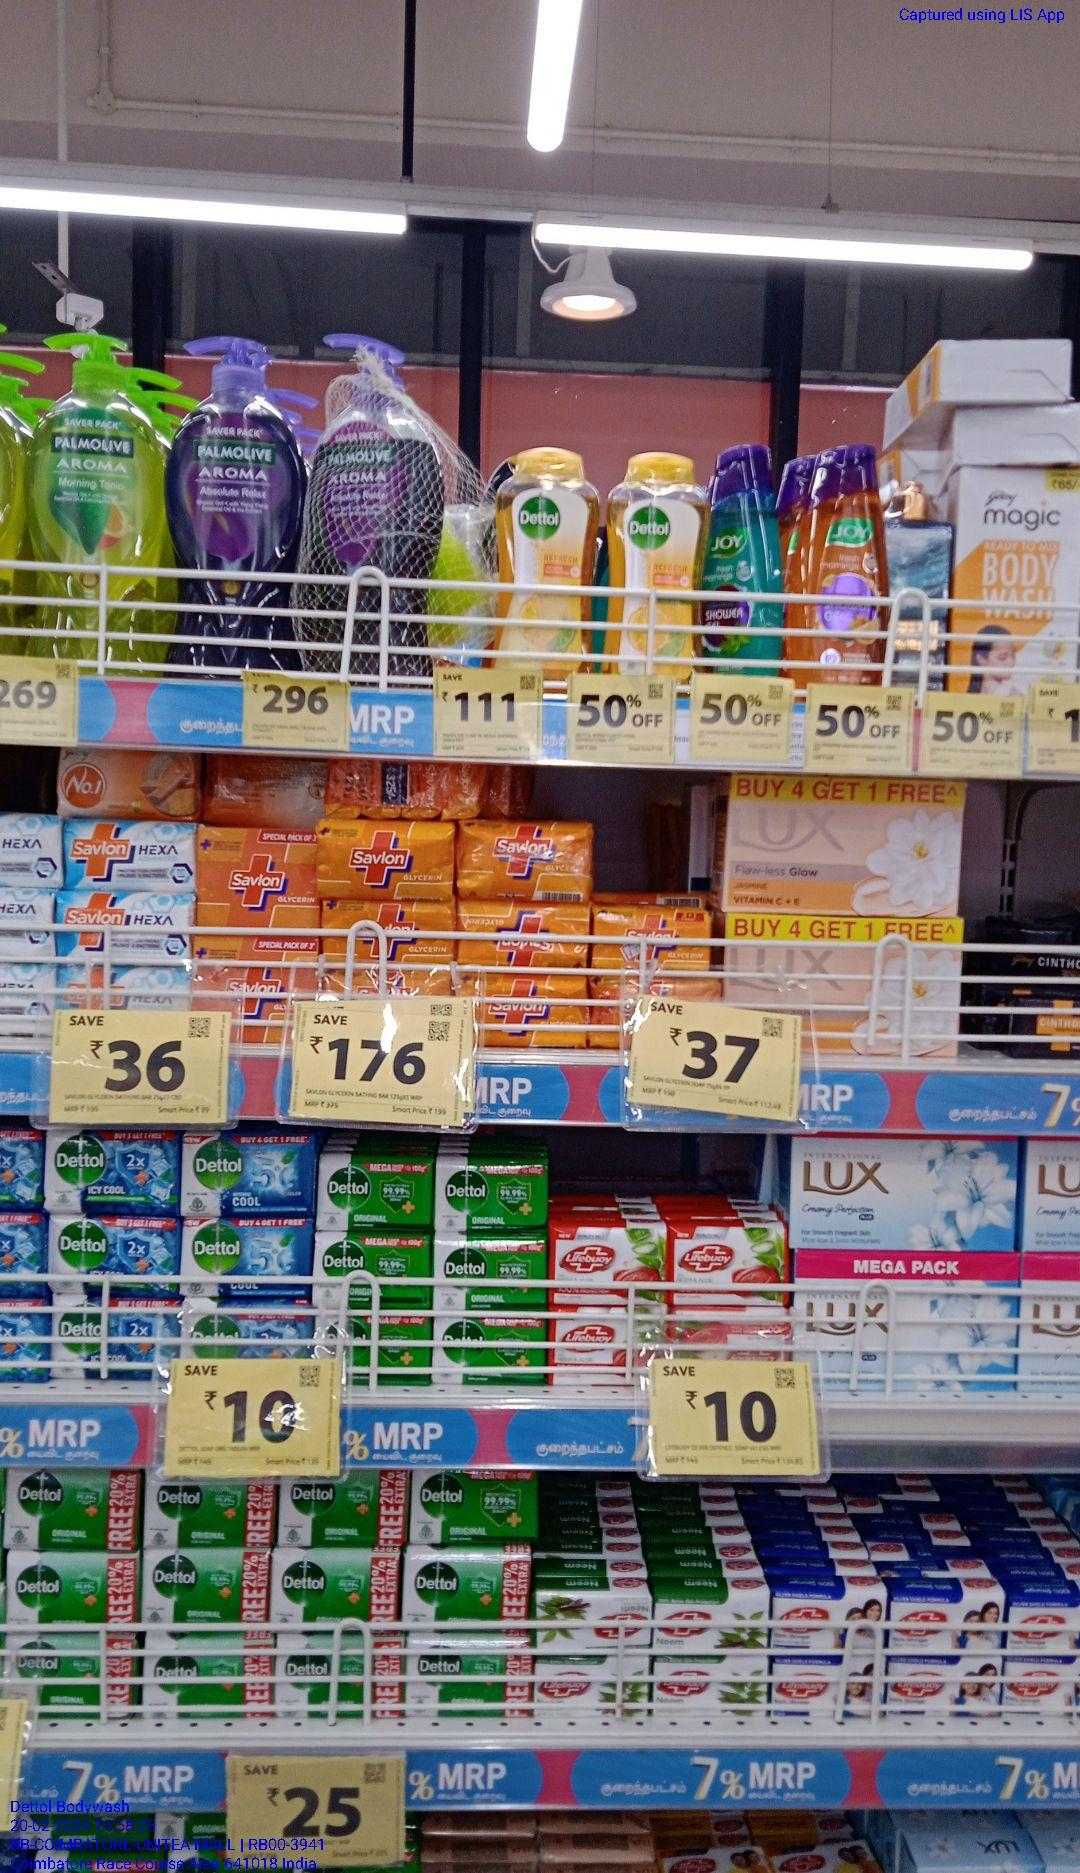Dettol_Bodywash_Refresh: (496, 443, 590, 673), (608, 457, 702, 673)
Joy_Shower_Gel_Mandarin_and_Lemongrass_250ML: (798, 446, 883, 684)
Joy_Shower_Gel_Mint_and_Eucalyptus_250ML: (707, 453, 775, 678)
